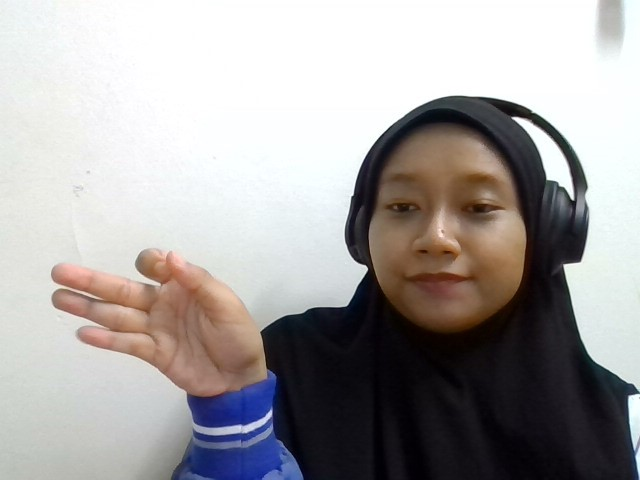Tudung: (51, 246, 268, 396)
